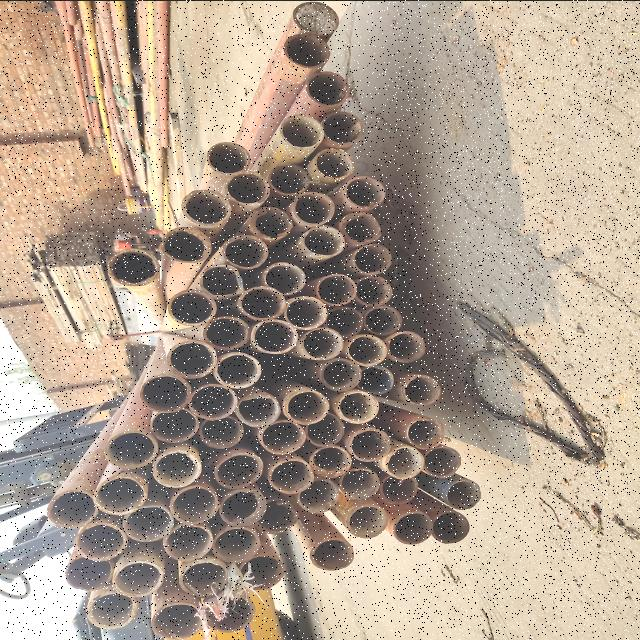pipe: (91, 472, 149, 515), (84, 588, 140, 630), (168, 482, 222, 525), (72, 521, 129, 561), (46, 488, 100, 530), (138, 373, 194, 413), (103, 428, 159, 468), (162, 521, 216, 562), (106, 246, 160, 286), (120, 502, 174, 542), (149, 600, 203, 640), (165, 338, 218, 378), (204, 592, 257, 632), (150, 448, 202, 488), (159, 225, 213, 263), (187, 382, 239, 421), (213, 450, 265, 489), (180, 188, 233, 226), (178, 558, 231, 596), (281, 29, 333, 67), (112, 558, 164, 596), (167, 287, 217, 326), (210, 526, 264, 562), (248, 317, 300, 354), (218, 488, 268, 526), (318, 108, 364, 148), (64, 554, 115, 590), (266, 456, 314, 494), (250, 496, 298, 534), (222, 168, 272, 204), (237, 284, 287, 320), (201, 314, 251, 350), (277, 112, 326, 148), (292, 0, 342, 35), (305, 69, 351, 107), (260, 416, 306, 454), (215, 351, 262, 388), (246, 204, 294, 240), (221, 233, 269, 269), (198, 413, 246, 449), (238, 554, 286, 590), (296, 476, 341, 514), (150, 408, 200, 442), (284, 388, 332, 423), (337, 210, 382, 247), (290, 190, 336, 226), (198, 262, 244, 298), (284, 294, 330, 330), (318, 356, 364, 392), (310, 535, 356, 571), (342, 174, 386, 210), (263, 260, 307, 296), (348, 426, 392, 462), (344, 502, 388, 538), (336, 389, 381, 424), (206, 139, 252, 173), (302, 223, 346, 258), (302, 411, 346, 446), (266, 162, 312, 195), (314, 272, 358, 306), (300, 326, 344, 360), (399, 372, 443, 406), (238, 394, 282, 428), (308, 444, 353, 477), (392, 508, 433, 544), (346, 332, 388, 367), (338, 466, 382, 499), (351, 242, 393, 276), (352, 273, 394, 307), (384, 444, 426, 478), (313, 147, 356, 180), (324, 304, 364, 339), (422, 443, 462, 478), (430, 508, 470, 543), (354, 363, 396, 395), (362, 304, 403, 336), (386, 330, 426, 362), (380, 471, 418, 504), (406, 417, 446, 448), (444, 479, 482, 509)
